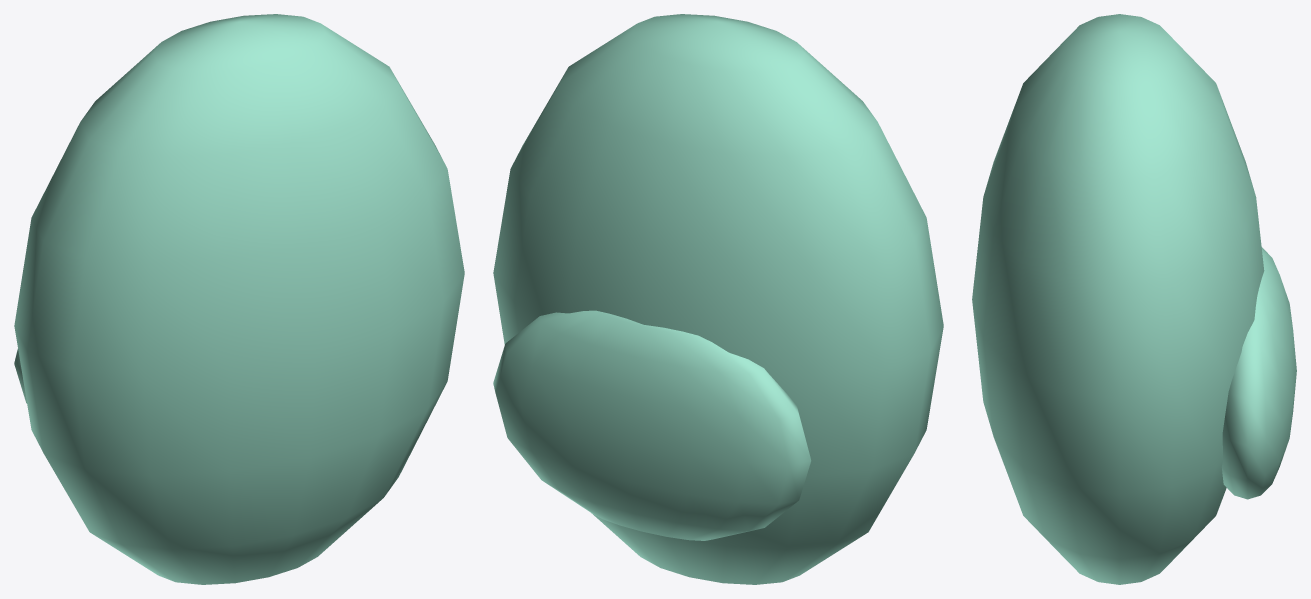
File: backpack.glb
The picture shows the model from 3 angles, left to right: view 1: azimuth 30°, elevation 25°; view 2: azimuth 150°, elevation 25°; view 3: azimuth 270°, elevation 25°; orthographic projection. The views are drawn at different scales.
Parts seen in each view (by area): view 1: Soft pack; view 2: Soft pack, Pocket; view 3: Soft pack, Pocket.
Part boxes in pixels (bbox=[...]): Soft pack: bbox=[14, 14, 464, 584]; Soft pack: bbox=[493, 14, 943, 584]; Pocket: bbox=[493, 310, 811, 540]; Soft pack: bbox=[972, 14, 1264, 584]; Pocket: bbox=[1221, 247, 1296, 499].
Bounding box in the file's own units: 0.24 × 0.3 × 0.165.
